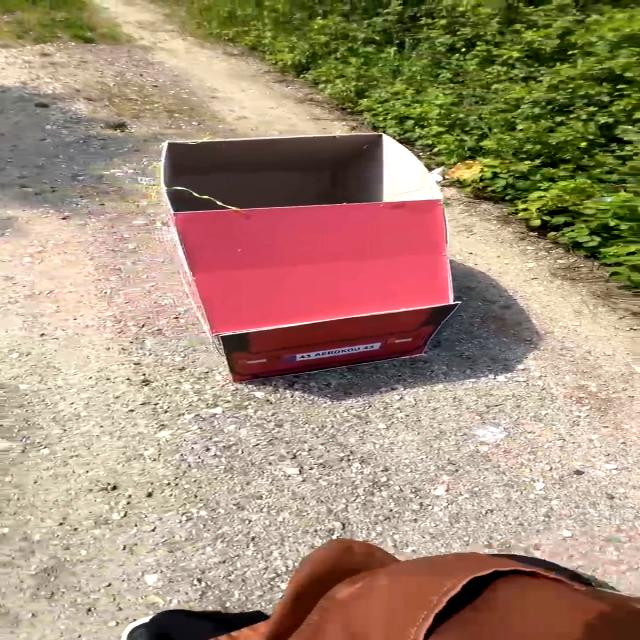red_car: (135, 118, 487, 399)
